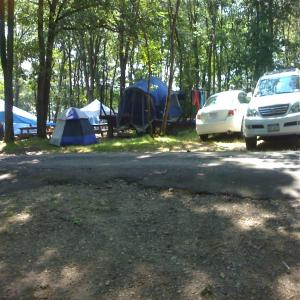Vehicle-registration-plate: (268, 123, 281, 134), (211, 111, 219, 122)
